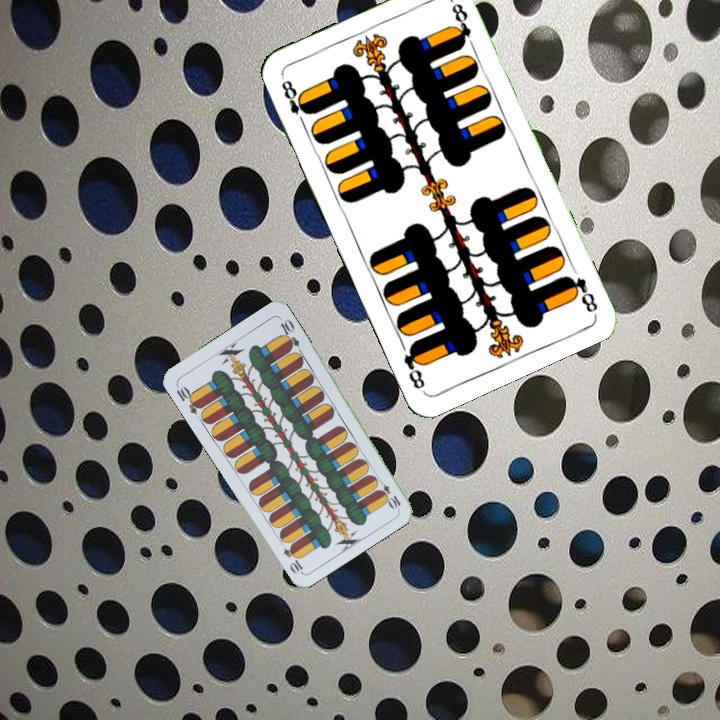E10: (172, 381, 204, 417), (373, 474, 403, 511)
E8: (561, 260, 601, 315), (277, 73, 313, 129)
